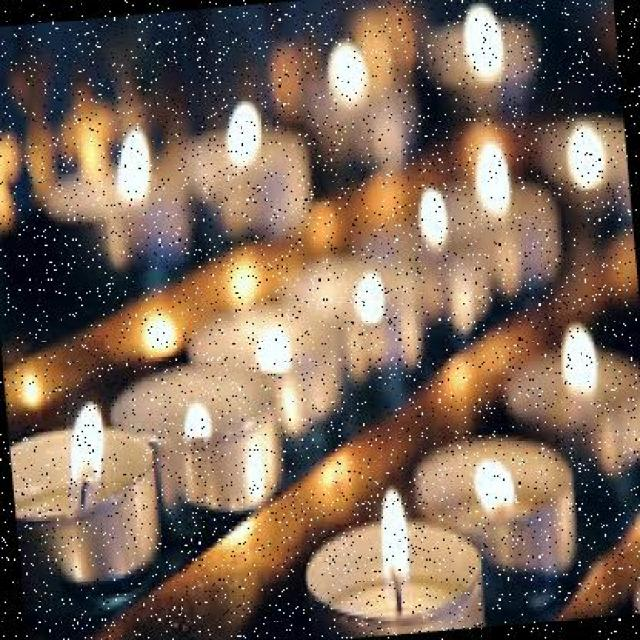fire: (56, 389, 112, 508), (368, 477, 415, 586)
